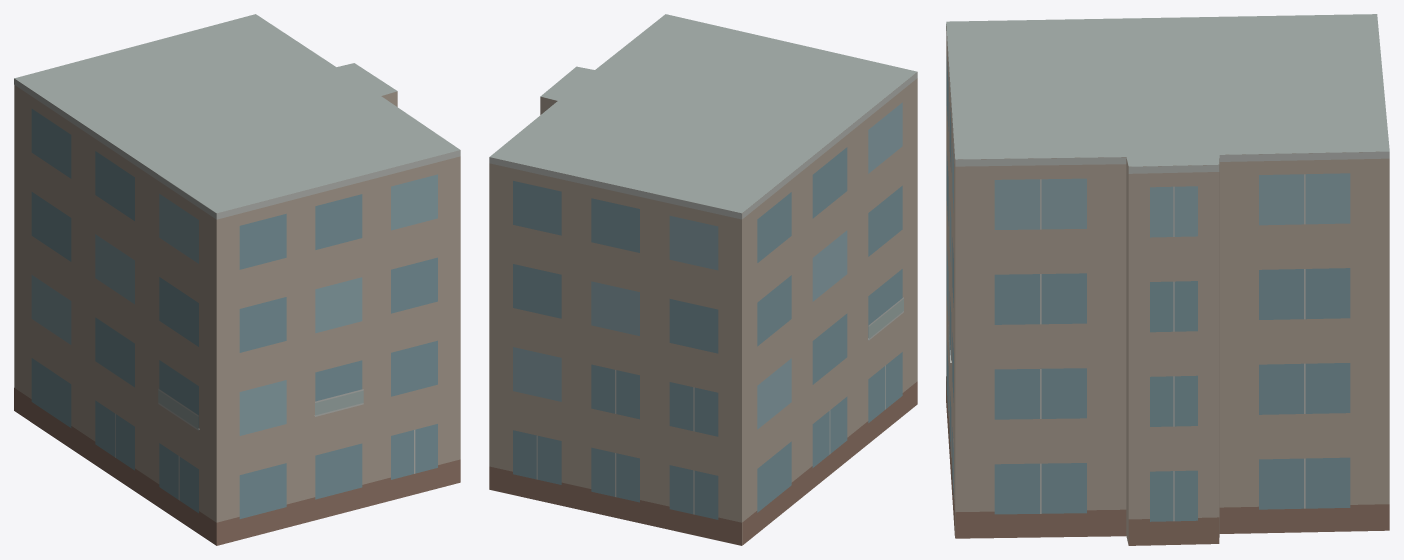
Rendered from survey-upis-32629182.glb.
3 views of the same model, side by side, from view 1: azimuth 30°, elevation 25°; view 2: azimuth 150°, elevation 25°; view 3: azimuth 270°, elevation 25° (orthographic). The views are drawn at different scales.
Parts seen in each view (by area): view 1: survey-upis-32629182.tmp; view 2: survey-upis-32629182.tmp; view 3: survey-upis-32629182.tmp.
Boxes of the visible parts, box(x1,y1,x2,y2) form: survey-upis-32629182.tmp: box(14, 14, 460, 545); survey-upis-32629182.tmp: box(489, 14, 917, 545); survey-upis-32629182.tmp: box(946, 14, 1389, 545).
Bounding box in the file's own units: 11.2 × 12.95 × 13.74.
